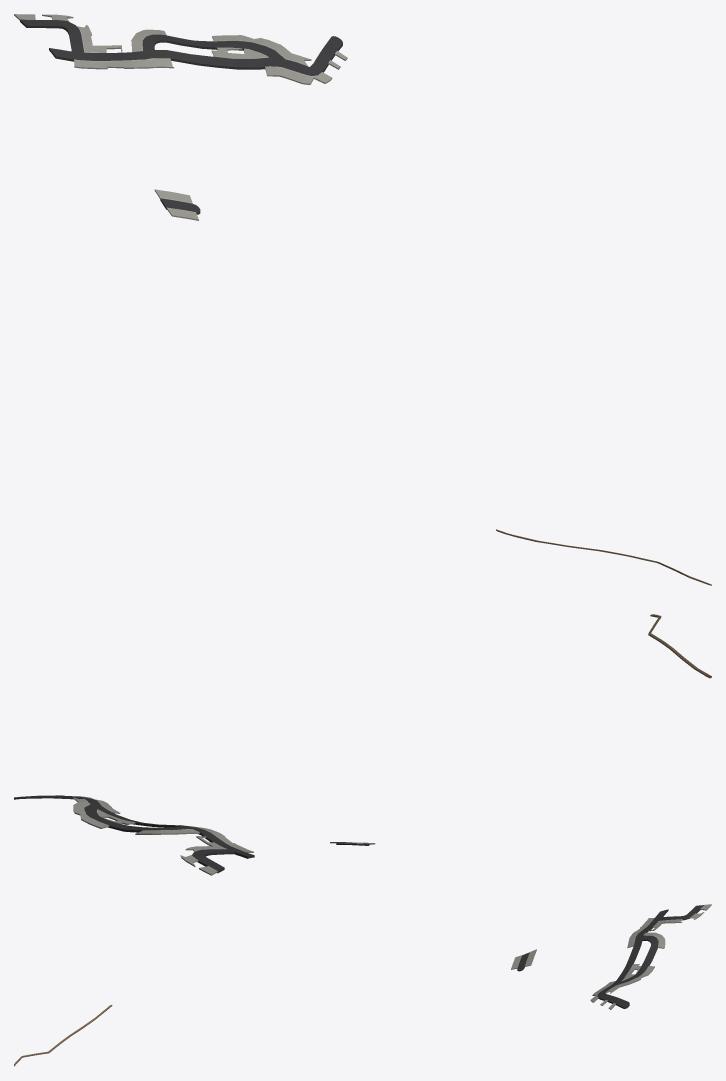
The picture shows the model from 3 angles, top to bottom: view 1: azimuth 30°, elevation 25°; view 2: azimuth 150°, elevation 25°; view 3: azimuth 270°, elevation 25°; orthographic projection. The views are drawn at different scales.
Size of the model in its own units: 153 by 110 by 575.
